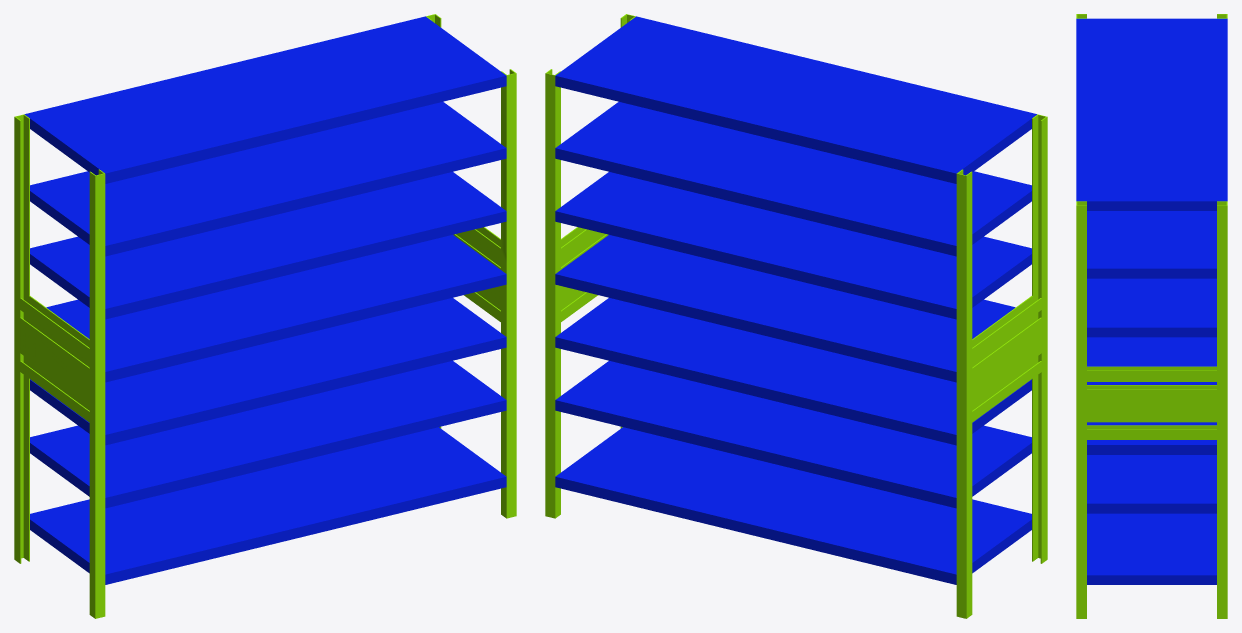
The model's file is Shelf_low.fbx.
The picture shows the model from 3 angles, left to right: view 1: azimuth 30°, elevation 25°; view 2: azimuth 150°, elevation 25°; view 3: azimuth 270°, elevation 25°; orthographic projection. The views are drawn at different scales.
Visible parts, largest first — view 1: Shelf_low, Shelf_Side_low; view 2: Shelf_low, Shelf_Side_low; view 3: Shelf_low, Shelf_Side_low.
Boxes of the visible parts, x1=… form: Shelf_low: x1=24, y1=16, x2=506, y2=584; Shelf_Side_low: x1=14, y1=14, x2=516, y2=618; Shelf_low: x1=555, y1=16, x2=1036, y2=584; Shelf_Side_low: x1=545, y1=14, x2=1047, y2=618; Shelf_low: x1=1076, y1=18, x2=1227, y2=584; Shelf_Side_low: x1=1076, y1=14, x2=1227, y2=618.
Bounding box in the file's own units: 210 × 211 × 70.
